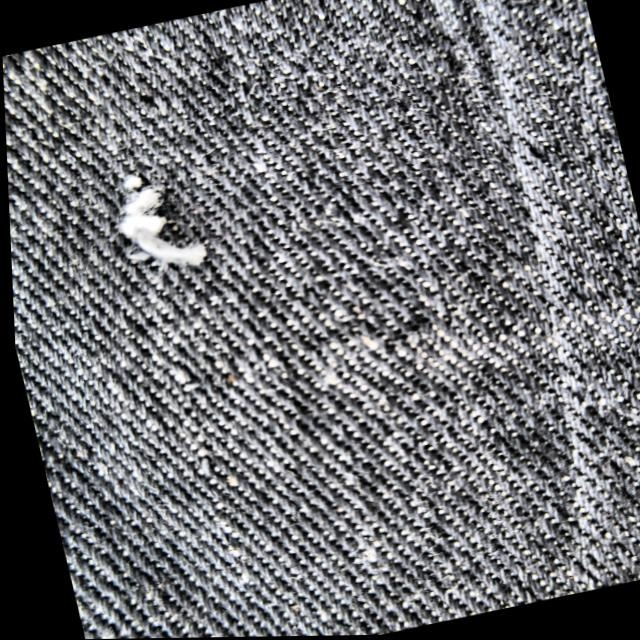Stitch: (61, 124, 243, 309)
